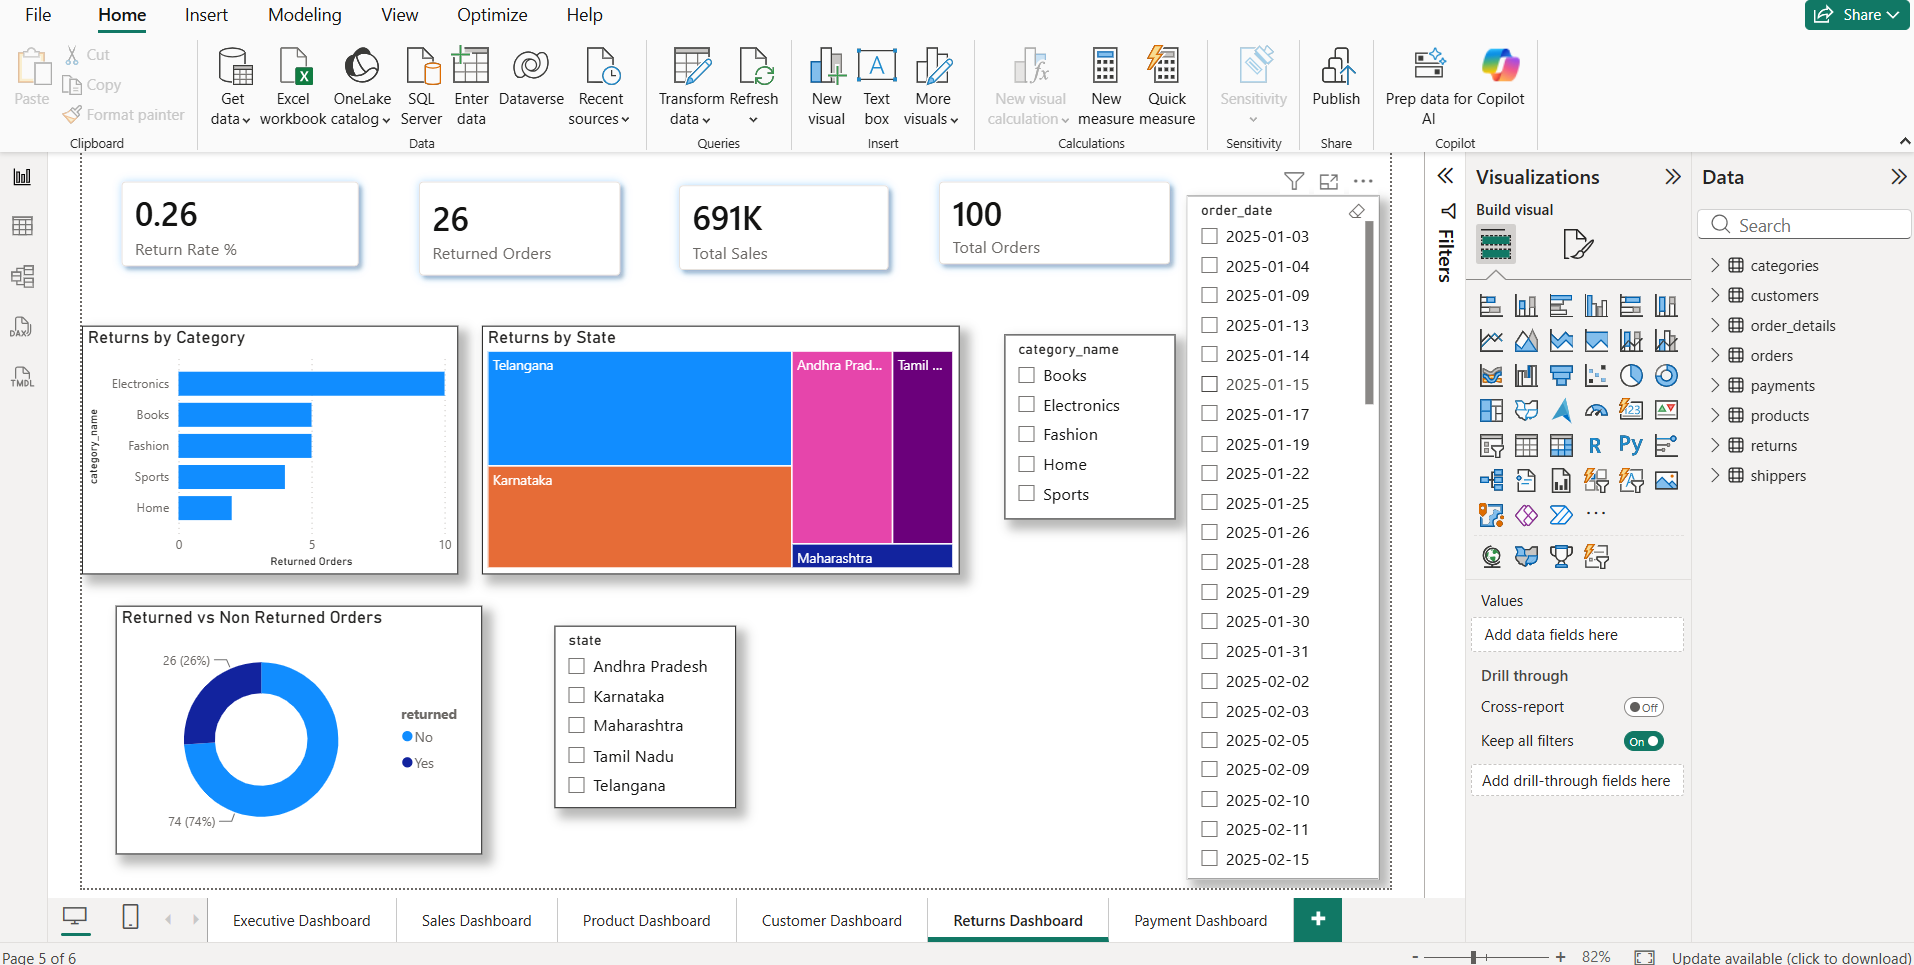

This screenshot's page, from the dashboard's own definition file:
{"tool":"powerbi","page":{"name":"Returns Dashboard","canvas":[1280,720],"ordinal":4},"visuals":[{"type":"cardVisual","fields":{"Data":["categories.Return Rate %"]},"box":[9.6,0,290.9,141.3],"z":0},{"type":"cardVisual","fields":{"Data":["categories.Total Orders"]},"box":[809.6,0,284,140],"z":1000},{"type":"cardVisual","fields":{"Data":["categories.Total Sales"]},"box":[555.7,4.1,263.5,141.3],"z":2000},{"type":"cardVisual","fields":{"Data":["categories.Returned Orders"]},"box":[300.5,0,255.2,150.9],"z":3000},{"type":"clusteredBarChart","title":"Returns by Category","fields":{"Category":["categories.category_name"],"Y":["categories.Returned Orders"]},"box":[0,170,368.1,243.3],"z":4000},{"type":"donutChart","title":"Returned vs Non Returned Orders","fields":{"Category":["returns.returned"],"Y":["CountNonNull(returns.order_id)"]},"box":[33,443.9,358.3,243.3],"z":5000},{"type":"treemap","title":"Returns by State","fields":{"Group":["customers.state"],"Values":["categories.Returned Orders"]},"box":[391.3,170,467.1,243.3],"z":6000},{"type":"slicer","fields":{"Values":["categories.category_name"]},"box":[902.5,178.5,167.5,181],"z":7000},{"type":"slicer","fields":{"Values":["customers.state"]},"box":[462.2,463.5,177.3,178.5],"z":8000},{"type":"slicer","fields":{"Values":["orders.order_date"]},"box":[1081,42.8,188.3,668.9],"z":9000}]}

Visuals, with their boxes on the page's 1280x720 design canvas (x1, y1, x2, y2). These are canvas units, not pixel positions in the 1914x965 screenshot, which may show the page scaled, cropped or inside an application window:
cardVisual - categories.Return Rate %: (x1=10, y1=0, x2=300, y2=141)
cardVisual - categories.Total Orders: (x1=810, y1=0, x2=1094, y2=140)
cardVisual - categories.Total Sales: (x1=556, y1=4, x2=819, y2=145)
cardVisual - categories.Returned Orders: (x1=300, y1=0, x2=556, y2=151)
"Returns by Category" clusteredBarChart: (x1=0, y1=170, x2=368, y2=413)
"Returned vs Non Returned Orders" donutChart: (x1=33, y1=444, x2=391, y2=687)
"Returns by State" treemap: (x1=391, y1=170, x2=858, y2=413)
slicer - categories.category_name: (x1=902, y1=178, x2=1070, y2=360)
slicer - customers.state: (x1=462, y1=464, x2=640, y2=642)
slicer - orders.order_date: (x1=1081, y1=43, x2=1269, y2=712)
